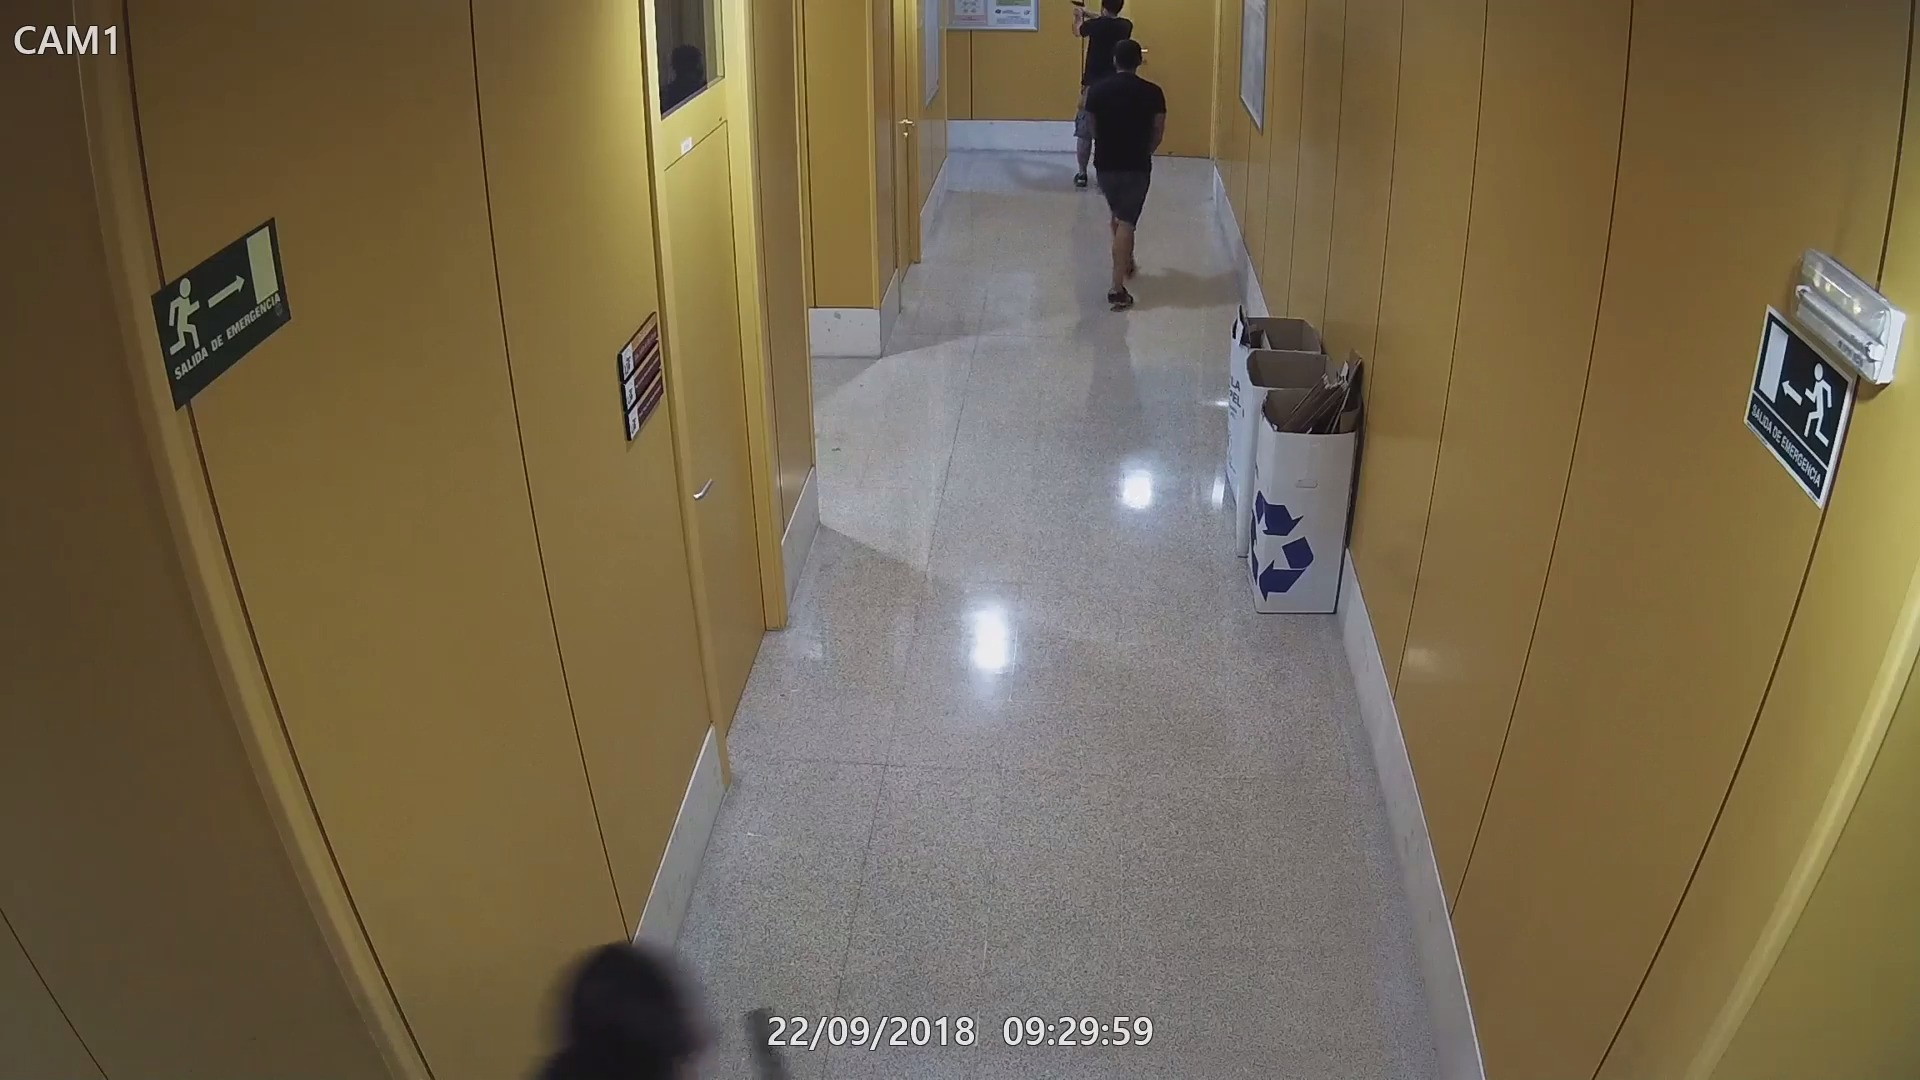Handgun: (1065, 0, 1092, 18)
Short_rifle: (735, 993, 800, 1076)
